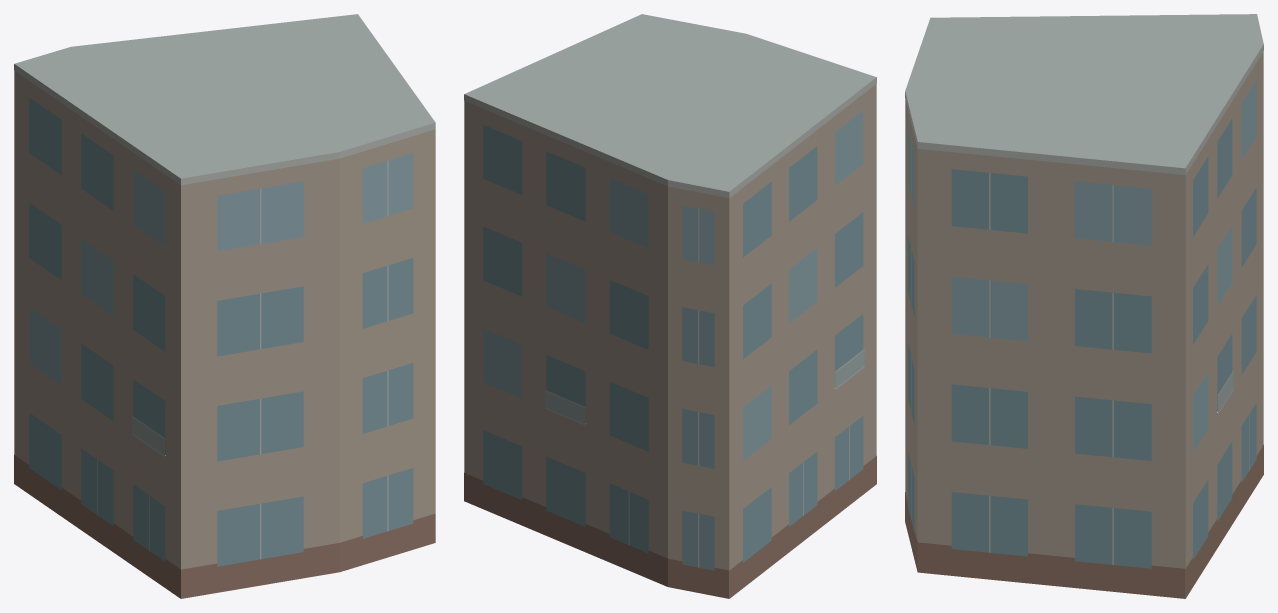
File: survey-upis-32477879.glb
The picture shows the model from 3 angles, left to right: view 1: azimuth 30°, elevation 25°; view 2: azimuth 150°, elevation 25°; view 3: azimuth 270°, elevation 25°; orthographic projection. The views are drawn at different scales.
Visible parts, largest first — view 1: survey-upis-32477879.tmp; view 2: survey-upis-32477879.tmp; view 3: survey-upis-32477879.tmp.
Boxes of the visible parts, x1,y1,x2,y2 form: survey-upis-32477879.tmp: (14,14,435,598); survey-upis-32477879.tmp: (464,14,876,598); survey-upis-32477879.tmp: (905,14,1263,598).
Bounding box in the file's own units: 11.85 × 15.4 × 11.64.
